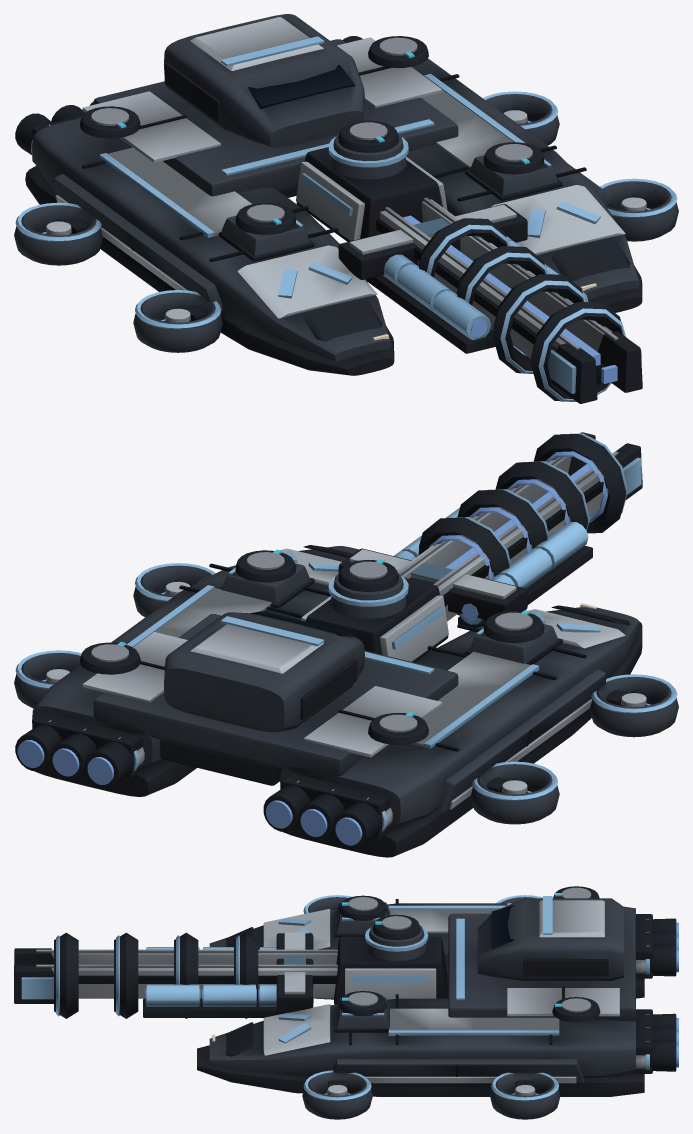
The model's file is ex_lancer_9.glb.
3 views of the same model, one above another, from view 1: azimuth 30°, elevation 25°; view 2: azimuth 150°, elevation 25°; view 3: azimuth 270°, elevation 25° (orthographic). The views are drawn at different scales.
Visible parts, largest first — view 1: body; view 2: body; view 3: body.
Part boxes in pixels (x1,y1,x2,y2): body: (14, 14, 678, 403); body: (14, 432, 678, 857); body: (14, 886, 678, 1119).
Size of the model in its own units: 12.74 by 3.35 by 17.47.
